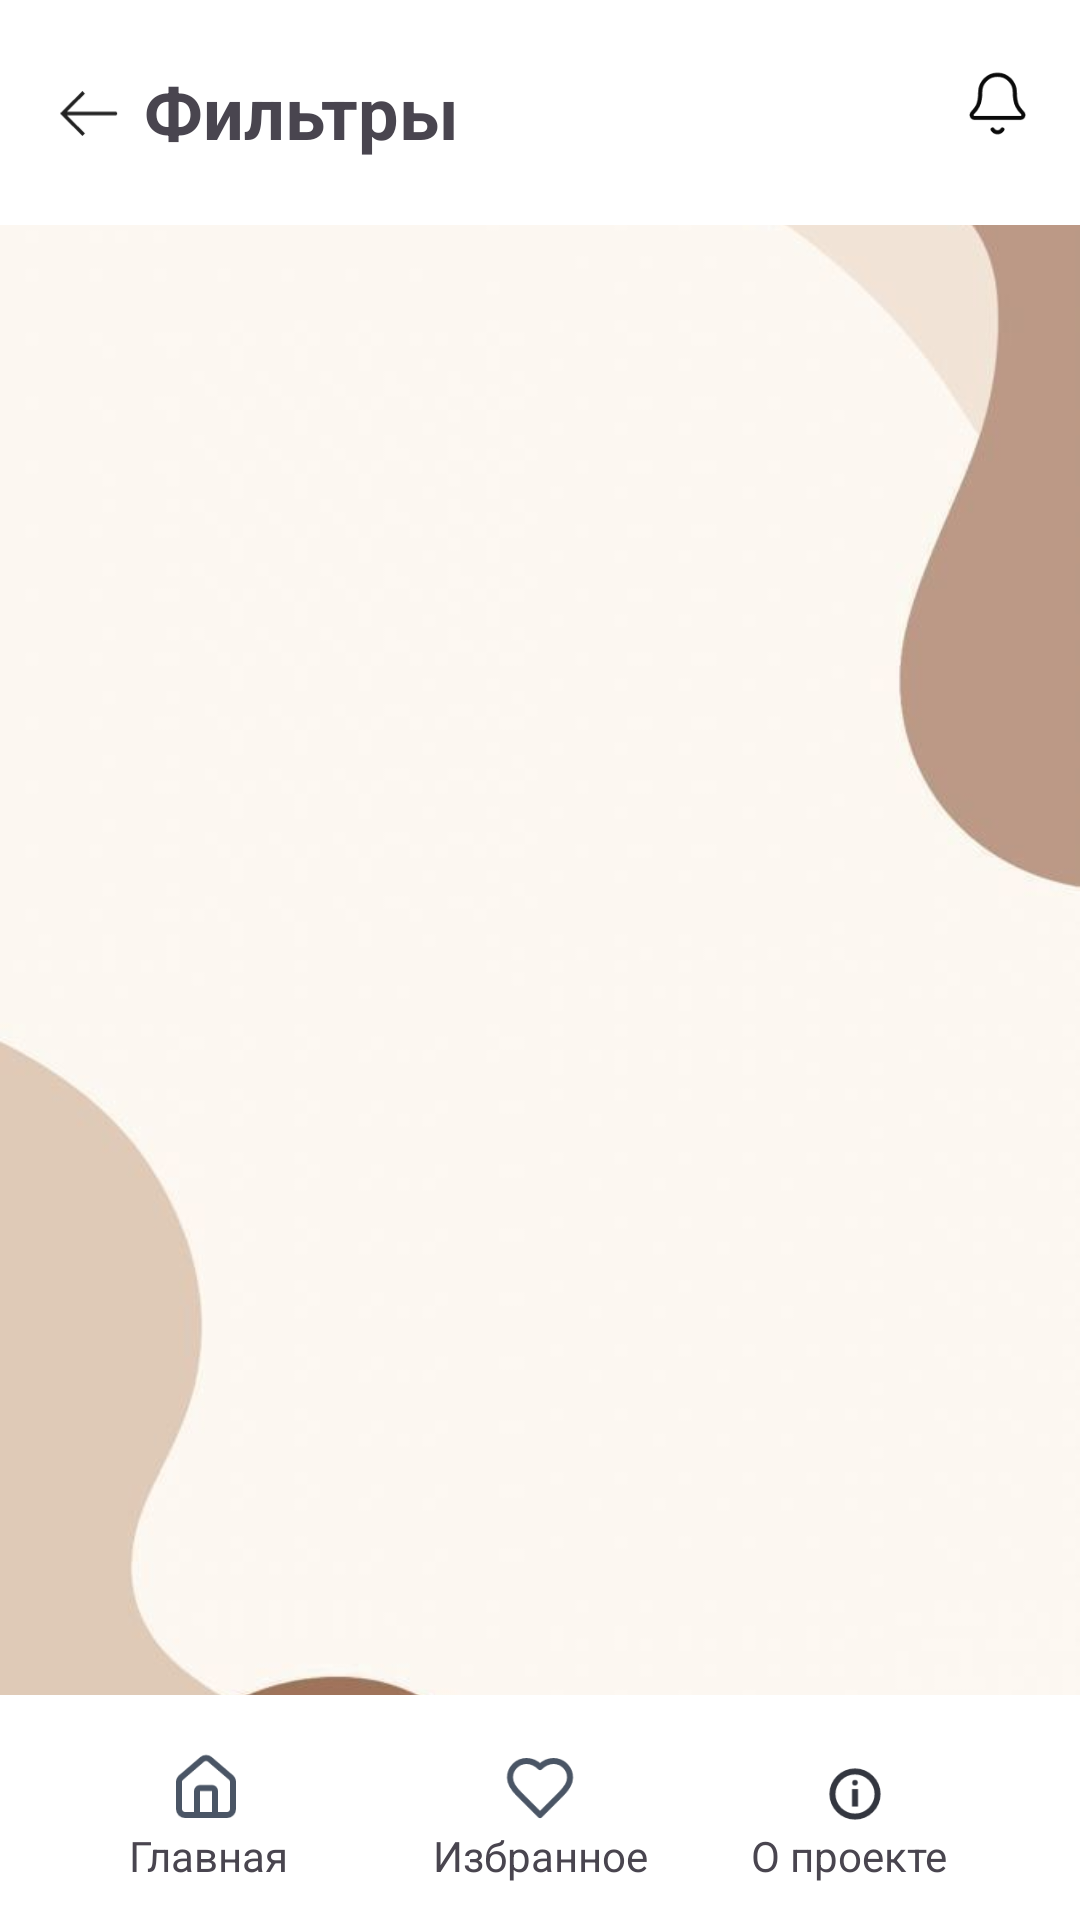

Named icons in this screenshot (1080x1920) and their centers, (x,y):
backarrowlt: (89,113)
notificationlt: (997,103)
